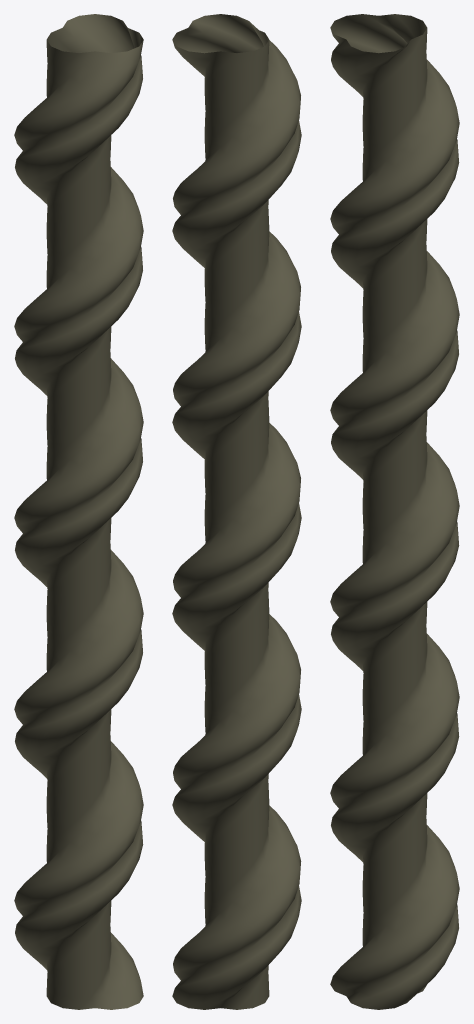
File: Rope - Not In Use.fbx
3 views of the same model, side by side, from view 1: azimuth 90°, elevation 25°; view 2: azimuth 210°, elevation 25°; view 3: azimuth 270°, elevation 25° (orthographic).
Parts seen in each view (by area): view 1: Rope; view 2: Rope; view 3: Rope.
Boxes of the visible parts, x1,y1,x2,y2 form: Rope: (14, 14, 143, 1009); Rope: (172, 14, 301, 1009); Rope: (330, 14, 459, 1009).
Bounding box in the file's own units: 20.87 × 170 × 20.87.
